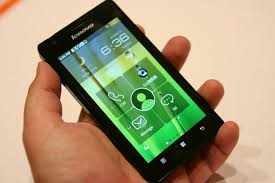lenovo: (33, 1, 226, 183)
